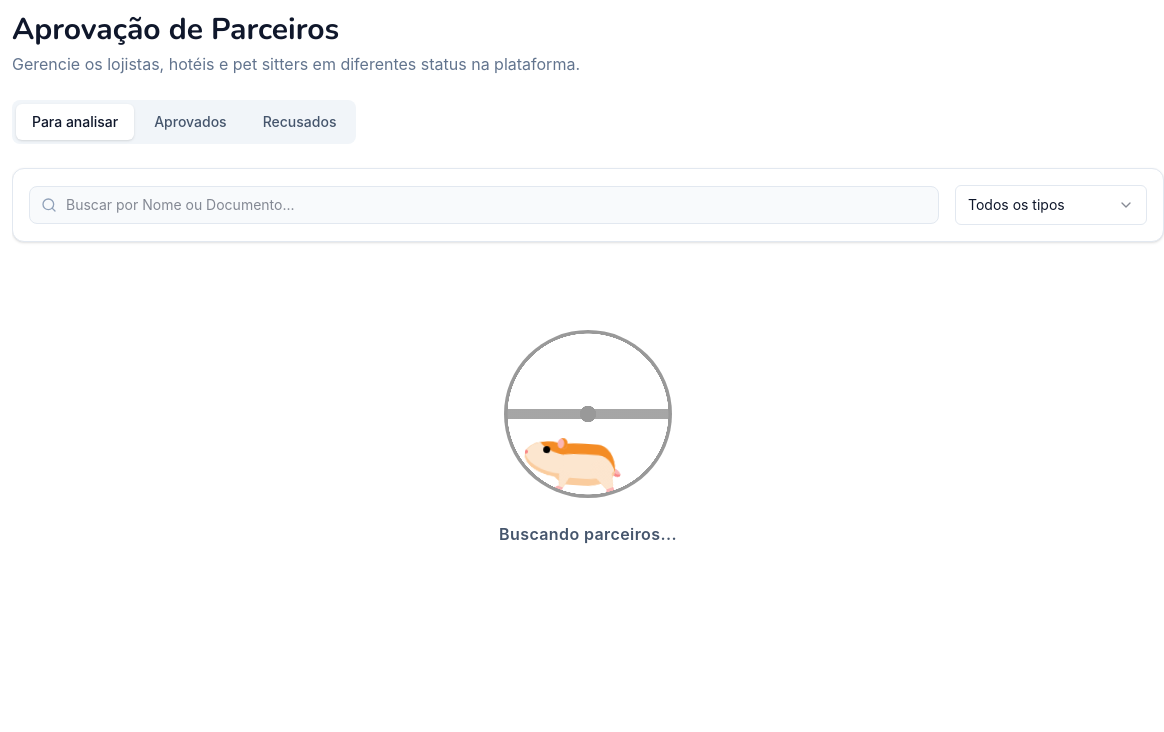
Scenario: reativar devolve o acesso sem passar pela confirmação
Click the button "Aprovados". click: click(190, 122)
box: [138,104,243,140]
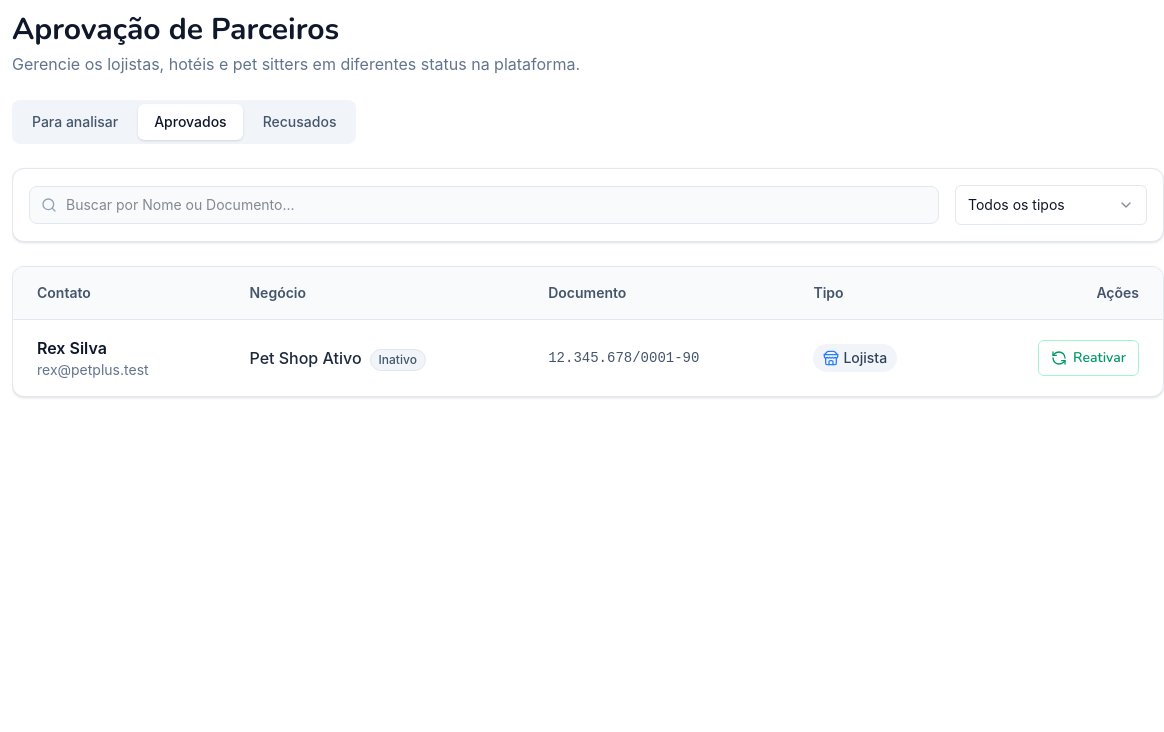
Click the button "Reativar". click: click(1089, 358)
box: [1038,340,1139,376]
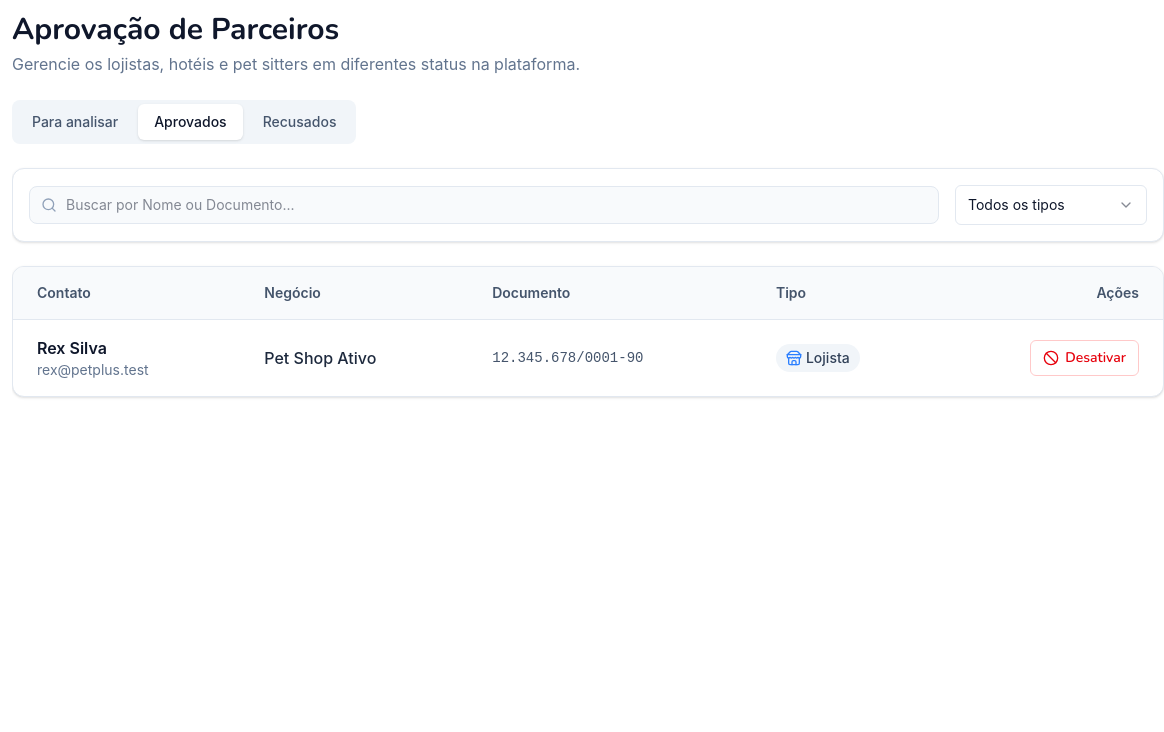
Check: the text "Inativo" is gone
Check: the button "Desativar" is shown, box [1030,340,1139,376]
